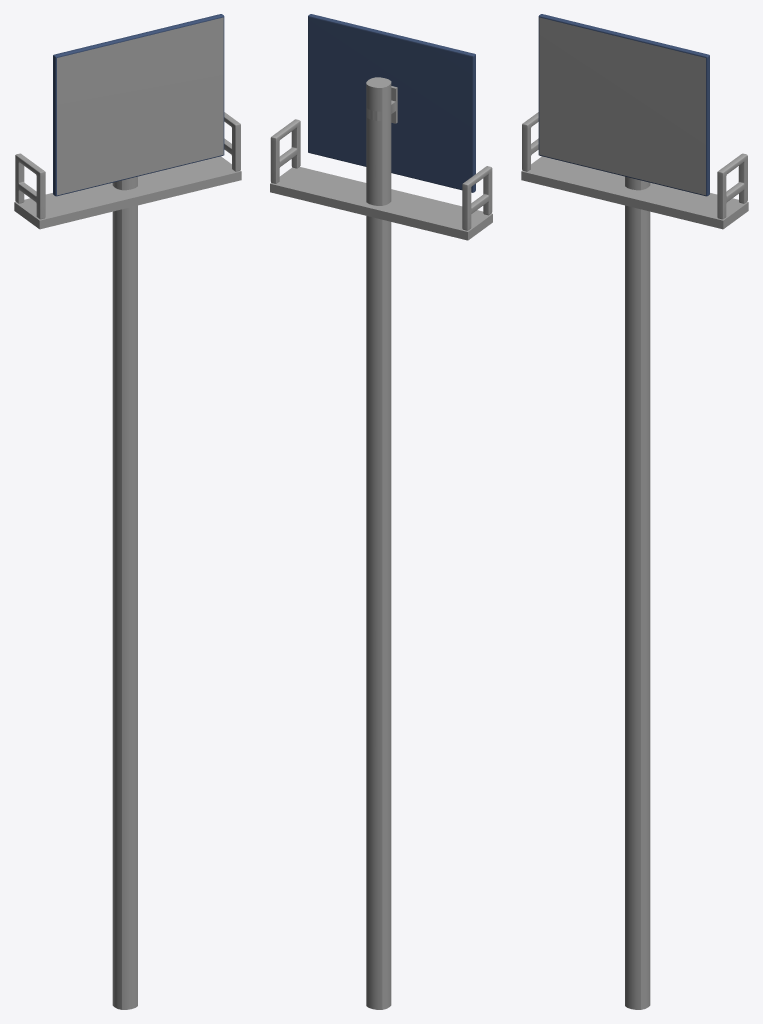
Rendered from SM_BillBoardSingleScreen.fbx.
3 renders of one model, left to right at view 1: azimuth 30°, elevation 25°; view 2: azimuth 150°, elevation 25°; view 3: azimuth 330°, elevation 25°, orthographic.
Parts seen in each view (by area): view 1: SM_Billboard1; view 2: SM_Billboard1; view 3: SM_Billboard1.
Part boxes in pixels (x1,y1,x2,y2): SM_Billboard1: (14, 14, 241, 1009); SM_Billboard1: (270, 14, 492, 1009); SM_Billboard1: (521, 14, 748, 1009).
Size of the model in its own units: 820 by 3801 by 178.
